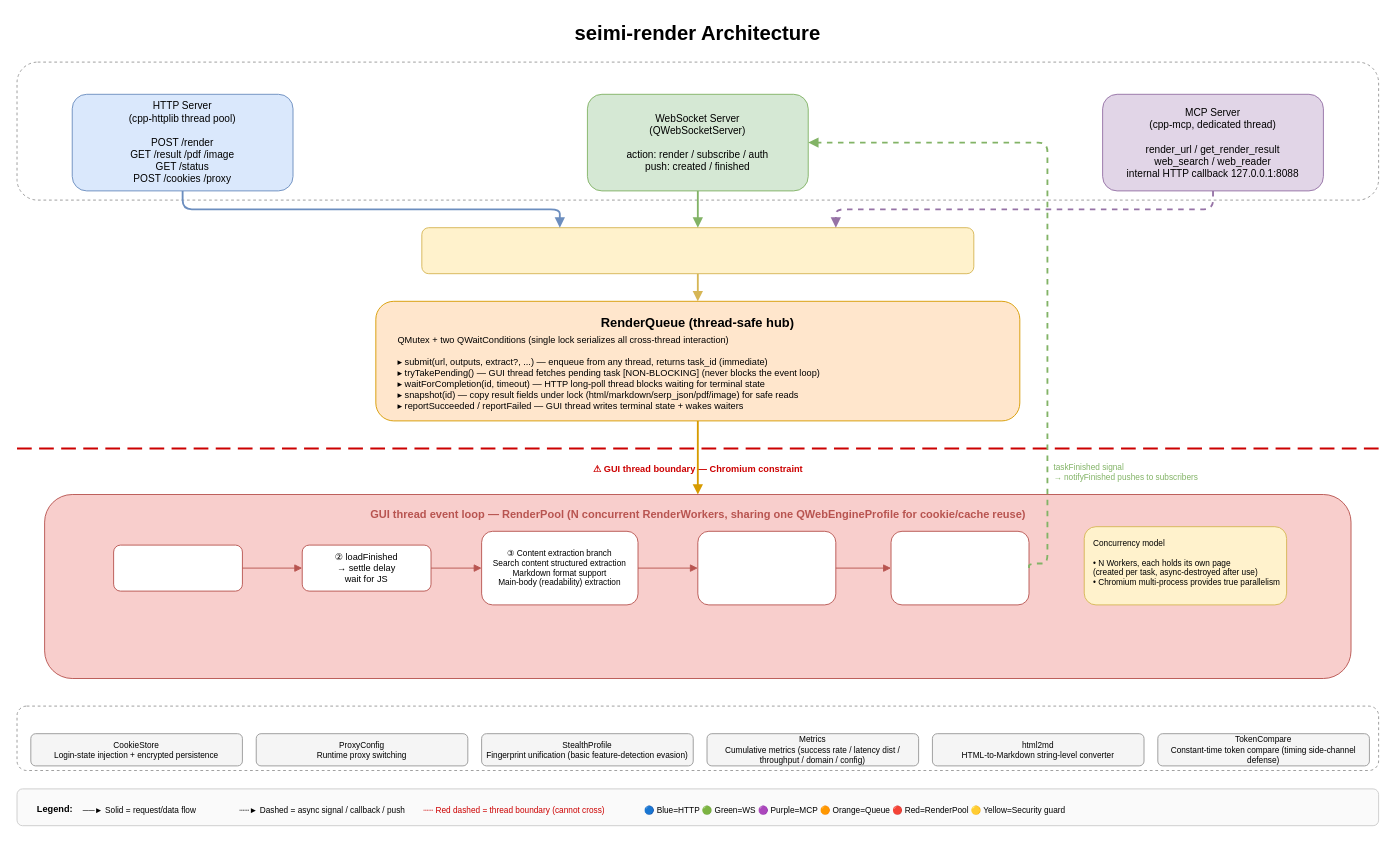
Some shapes in this 1396 by 842 pixel diagram are drawn without their labels. Here are the shapes that lost their labels. From the top down, the box of each, then its label:
(16, 61, 1379, 200): Entry Layer (3 endpoints)
(421, 227, 974, 274): 🔒 Auth / Intranet protection / Login rate-limit
(113, 544, 242, 591): ① Create page load(url)
(697, 530, 836, 605): ④ collect() toHtml (always) + printToPdf (optional) + screenshot (optional)
(890, 530, 1029, 605): ⑤ tryFinishCollect all collects done → reportSucceeded → destroyPage
(16, 705, 1379, 770): Auxiliary modules (each ships its own thread-safety mechanism)
